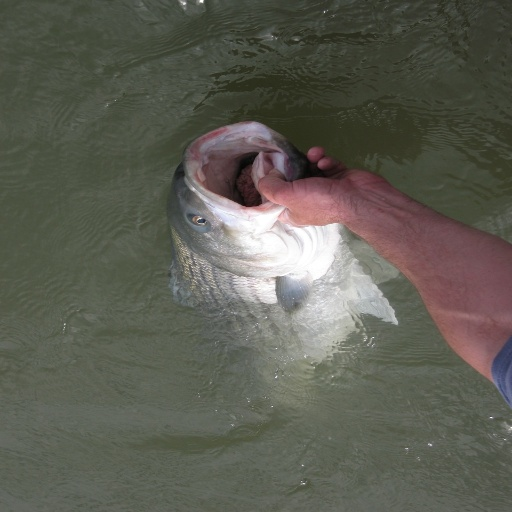hand: (256, 145, 385, 226)
